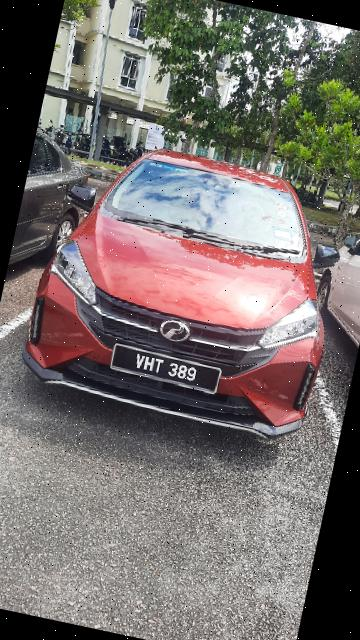License_Plate: (107, 340, 226, 398)
car: (16, 124, 360, 456)
